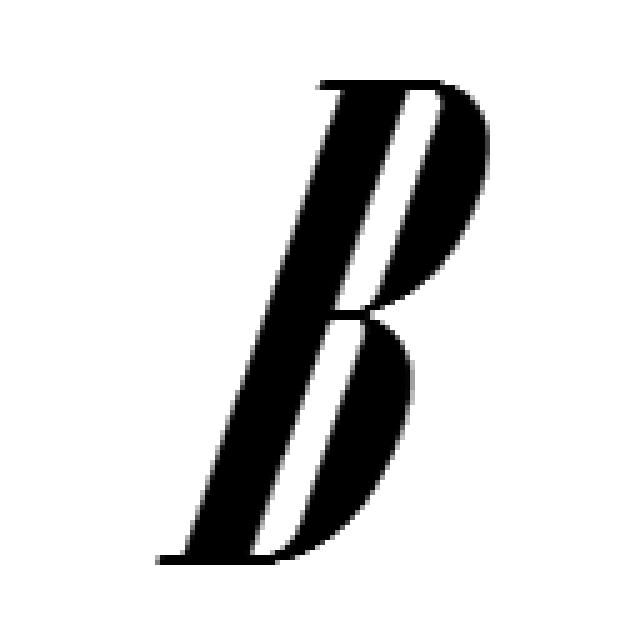B: (160, 80, 495, 570)
